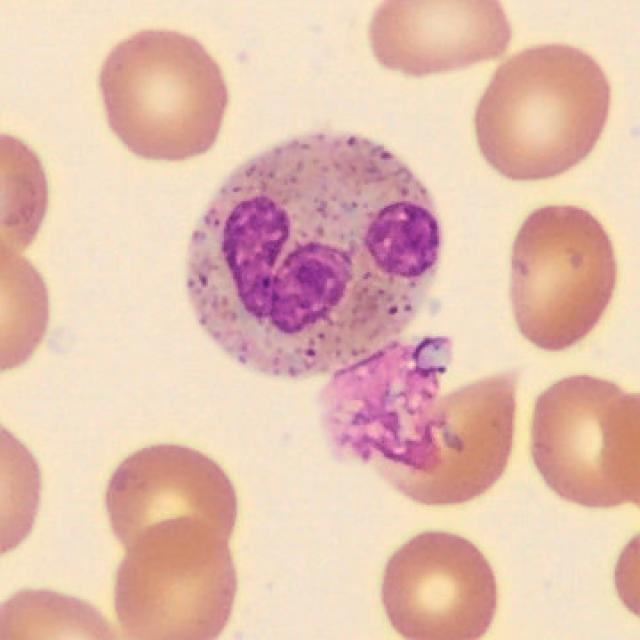Neutrofilo segmentado: (188, 135, 441, 375)
